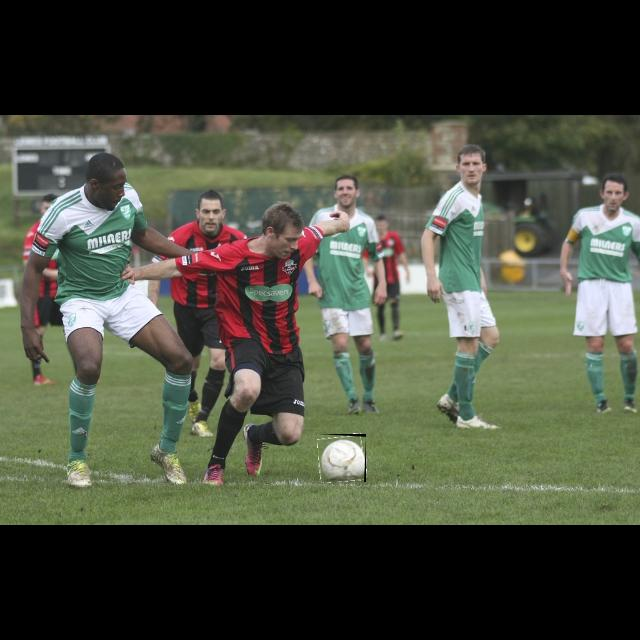Football: (318, 434, 366, 482)
